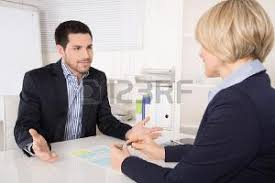person: (171, 4, 274, 172), (20, 16, 113, 121)
